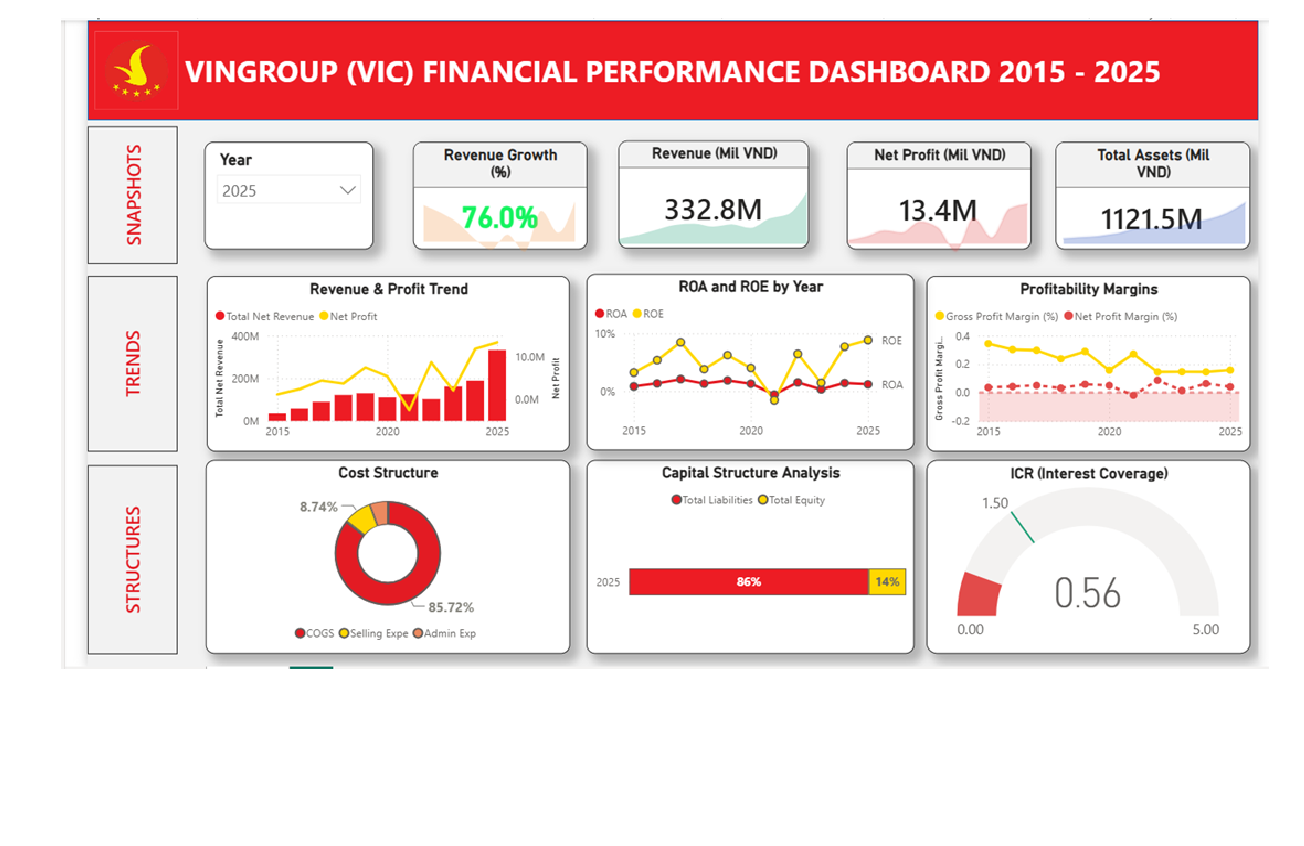

This screenshot's page, from the dashboard's own definition file:
{"tool":"powerbi","page":{"name":"Page 1","canvas":[1280,720],"ordinal":0},"visuals":[{"type":"shape","title":"VINGROUP (VIC) FINANCIAL PERFORMANCE DASHBOARD 2015 - 2025","box":[0,0,1280,111],"z":0},{"type":"cardVisual","title":"Revenue (Mil VND)","fields":{"Data":["Sum(Table 1.Total Net Revenue)"]},"box":[579.9,133.3,208.3,120],"z":1000},{"type":"cardVisual","title":"Net Profit (Mil VND)","fields":{"Data":["Sum(Table 1.Net Profit)"]},"box":[830,135.7,201.4,120],"z":2000},{"type":"kpi","title":"Revenue Growth (%)","fields":{"Indicator":["Table 1.Revenue Growth (%)"],"TrendLine":["Table 1.Year"]},"box":[355.7,135.7,190,120],"z":3000},{"type":"lineClusteredColumnComboChart","title":"Revenue & Profit Trend","fields":{"Category":["Table 1.Year"],"Y":["Sum(Table 1.Total Net Revenue)"],"Y2":["Sum(Table 1.Net Profit)"]},"box":[130,284.3,397.1,195.7],"z":4000},{"type":"donutChart","title":"Cost Structure","fields":{"Y":["Divide(Sum(Table 1.Cost of Goods Sold), ScopedEval(Sum(Table 1.Cost of Goods Sold), []))","Divide(Sum(Table 1.Selling Expenses), ScopedEval(Sum(Table 1.Selling Expenses), []))","Divide(Sum(Table 1.General & Admin Expenses), ScopedEval(Sum(Table 1.General & Admin Expenses), []))"]},"box":[128.6,490,398.6,215.7],"z":5000},{"type":"lineChart","title":"Profitability Margins","fields":{"Category":["Table 1.Year"],"Y":["Table 1.Gross Profit Margin (%)","Table 1.Net Profit Margin (%)"]},"box":[917.1,284.3,354.3,195.7],"z":6000},{"type":"hundredPercentStackedBarChart","title":"Capital Structure Analysis","fields":{"Category":["Table 1.Year"],"Y":["Sum(Table 2.Total Liabilities)","Sum(Table 2.Total Equity)"]},"box":[545.7,490,358.6,215.7],"z":7000},{"type":"image","box":[8.6,12.1,90,87.1],"z":8000},{"type":"slicer","fields":{"Values":["Table 1.Year"]},"box":[128.3,135,185,120],"z":9000},{"type":"lineChart","fields":{"Category":["Table 1.Year"],"Y":["Financial Measure.ROA","Financial Measure.ROE"]},"box":[545.7,282.9,358.6,197.1],"z":10000},{"type":"shape","box":[0,118.6,98.6,152.9],"z":11000},{"type":"shape","box":[0,284.3,98.6,195.7],"z":12000},{"type":"shape","box":[0,496.2,98.8,210],"z":13000},{"type":"lineChart","fields":{"Y":["Sum(Table 1.Total Net Revenue)"],"Category":["Table 1.Year"]},"box":[565.7,165.7,235.7,90],"z":14000},{"type":"lineChart","fields":{"Category":["Table 1.Year"],"Y":["Sum(Table 1.Net Profit)"]},"box":[817.1,185.7,225.7,85.7],"z":15000},{"type":"cardVisual","title":"Total Assets (Mil VND)","fields":{"Data":["Sum(Table 2.Total Assets)"]},"box":[1058.6,135.7,212.9,120],"z":16000},{"type":"lineChart","fields":{"Category":["Table 1.Year"],"Y":["Sum(Table 2.Total Assets)"]},"box":[1051.4,174.3,228.6,81.4],"z":17000},{"type":"lineChart","fields":{"Category":["Table 1.Year"],"Y":["Table 1.Revenue Growth (%)"]},"box":[334.3,174.3,305.7,108.6],"z":18000},{"type":"gauge","title":"ICR (Interest Coverage)","fields":{"Y":["Income Statement.ICR"]},"box":[917.1,490,354.3,215.7],"z":19000}]}

Visuals, with their boxes on the page's 1280x720 design canvas (x1, y1, x2, y2). These are canvas units, not pixel positions in the 1304x846 screenshot, which may show the page scaled, cropped or inside an application window:
"VINGROUP (VIC) FINANCIAL PERFORMANCE DASHBOARD 2015 - 2025" shape: 0:0:1280:111
"Revenue (Mil VND)" cardVisual: 580:133:788:253
"Net Profit (Mil VND)" cardVisual: 830:136:1031:256
"Revenue Growth (%)" kpi: 356:136:546:256
"Revenue & Profit Trend" lineClusteredColumnComboChart: 130:284:527:480
"Cost Structure" donutChart: 129:490:527:706
"Profitability Margins" lineChart: 917:284:1271:480
"Capital Structure Analysis" hundredPercentStackedBarChart: 546:490:904:706
image: 9:12:99:99
slicer - Table 1.Year: 128:135:313:255
lineChart - Table 1.Year x Financial Measure.ROA: 546:283:904:480
shape: 0:119:99:272
shape: 0:284:99:480
shape: 0:496:99:706
lineChart - Sum(Table 1.Total Net Revenue) x Table 1.Year: 566:166:801:256
lineChart - Table 1.Year x Sum(Table 1.Net Profit): 817:186:1043:271
"Total Assets (Mil VND)" cardVisual: 1059:136:1272:256
lineChart - Table 1.Year x Sum(Table 2.Total Assets): 1051:174:1280:256
lineChart - Table 1.Year x Table 1.Revenue Growth (%): 334:174:640:283
"ICR (Interest Coverage)" gauge: 917:490:1271:706
